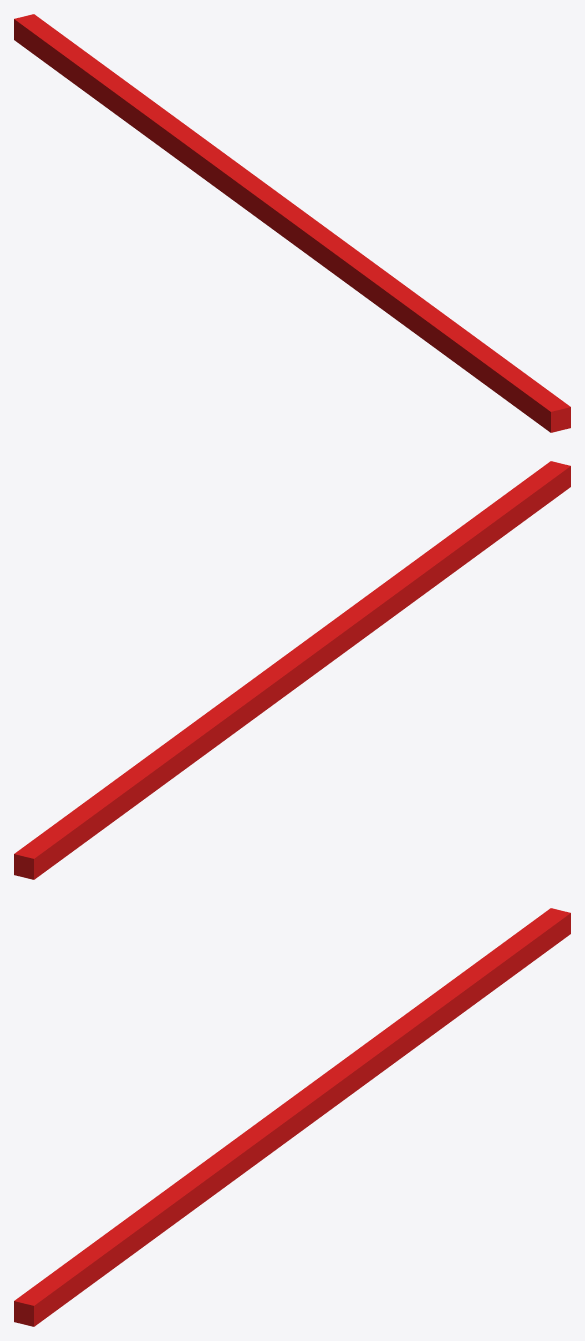
Rendered from firing_line.obj.
3 renders of one model, top to bottom at view 1: azimuth 30°, elevation 25°; view 2: azimuth 150°, elevation 25°; view 3: azimuth 330°, elevation 25°, orthographic.
Parts seen in each view (by area): view 1: 立方体; view 2: 立方体; view 3: 立方体.
Part boxes in pixels (box(x1,y1,x2,y2)): 立方体: box(14, 14, 570, 432); 立方体: box(14, 461, 570, 879); 立方体: box(14, 908, 570, 1326).
Size of the model in its own units: 2 by 2 by 92.56.
Materials: 1 (1 with a texture image).
